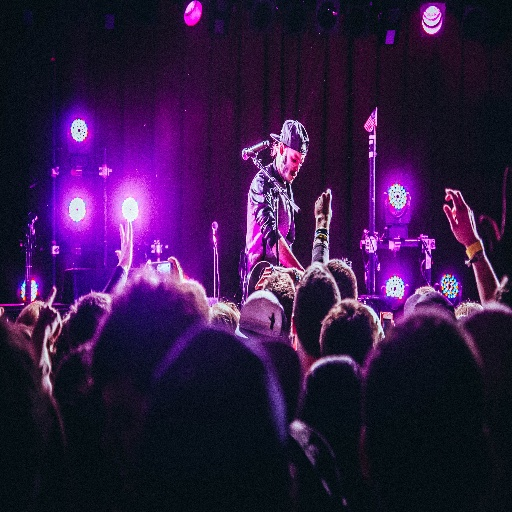hand: (442, 187, 485, 255), (36, 286, 62, 344), (114, 212, 132, 268), (314, 188, 334, 222)
